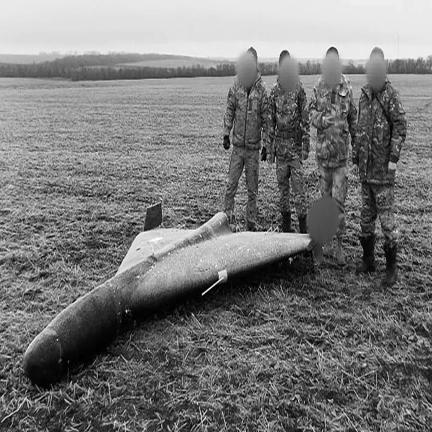Shahed: (23, 199, 337, 386)
